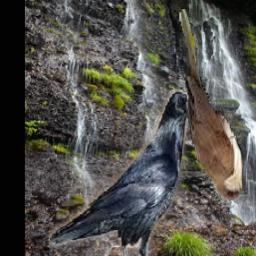Crow: (50, 89, 204, 256)
Cuckoo: (179, 8, 247, 202)
